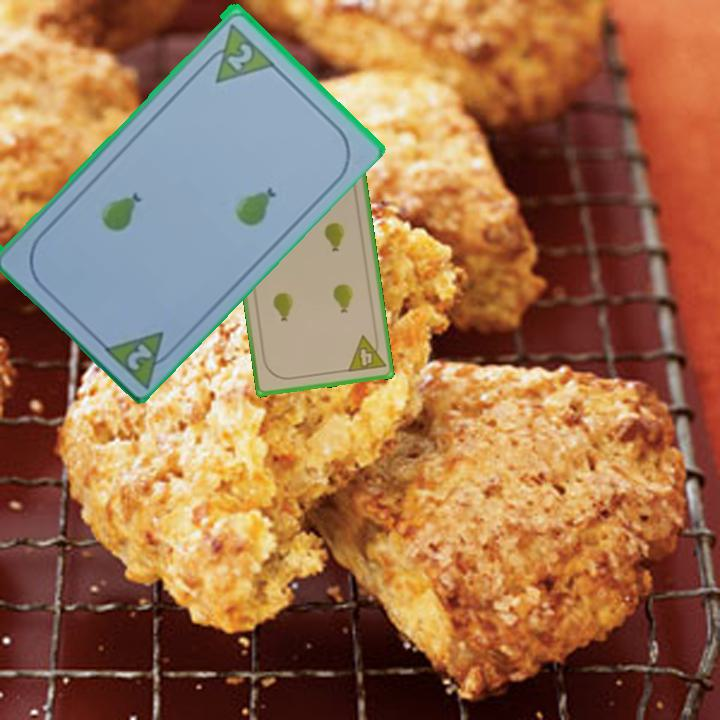2p: (223, 39, 256, 73), (123, 339, 156, 373)
4p: (344, 330, 388, 375)
